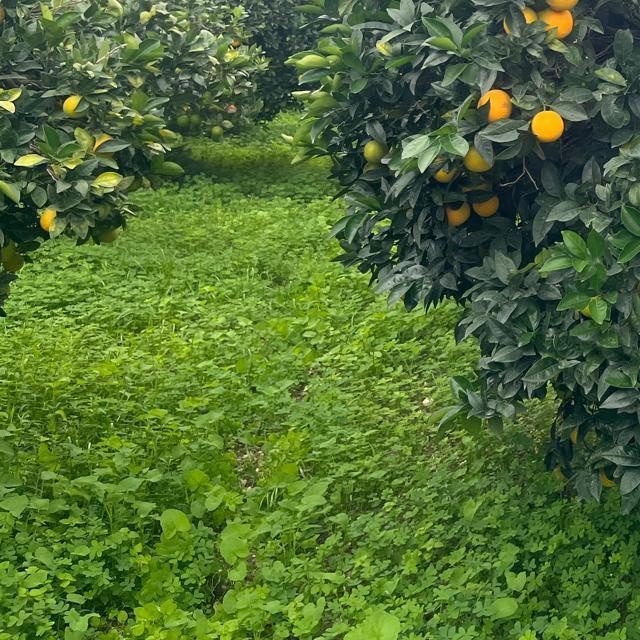orange: (476, 87, 512, 121), (530, 108, 564, 142), (537, 8, 573, 38), (503, 6, 537, 36), (464, 143, 492, 171), (361, 138, 387, 164), (62, 93, 90, 117), (444, 201, 470, 225), (432, 158, 458, 182), (471, 196, 499, 216), (93, 132, 115, 156), (39, 206, 59, 232), (1, 253, 25, 273), (96, 225, 122, 243), (543, 0, 579, 9), (176, 114, 190, 128), (211, 124, 225, 138), (190, 113, 202, 125), (230, 38, 240, 46)
